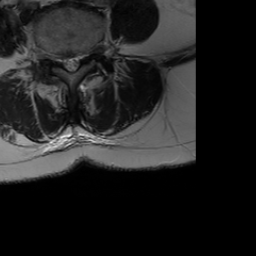CCS_stenosis: (68, 49, 74, 79)
LFS_stenosis: (81, 44, 89, 64)
LLS_normal: (74, 47, 81, 73)
RFS_stenosis: (53, 44, 61, 71)
RLS_stenosis: (61, 49, 68, 73)
